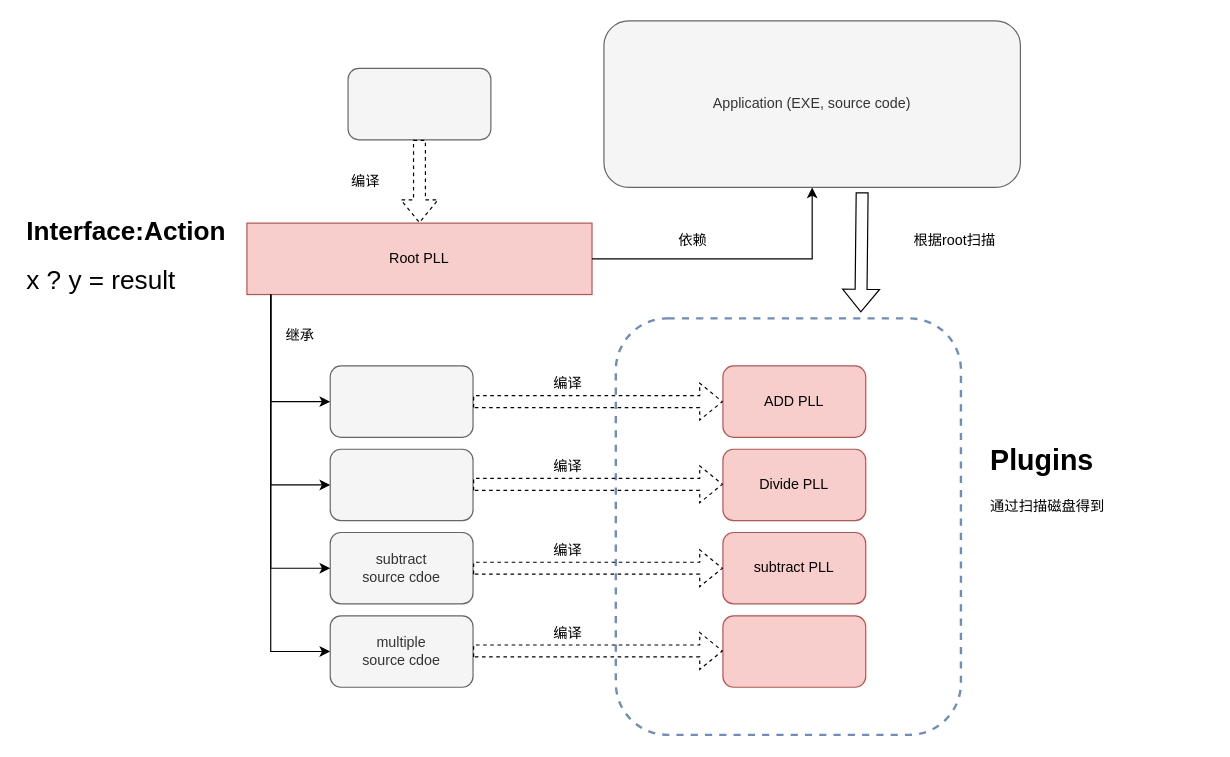
Some shapes in this 1230 by 757 pixel diagram are drawn without their labels. Here are the shapes that lost their labels. From the top down, the box of each, then its label:
(347, 67, 491, 140): Root Source Code
(329, 365, 473, 437): ADD source cdoe
(329, 448, 473, 521): Divide source cdoe
(722, 615, 866, 687): multiple PLL
